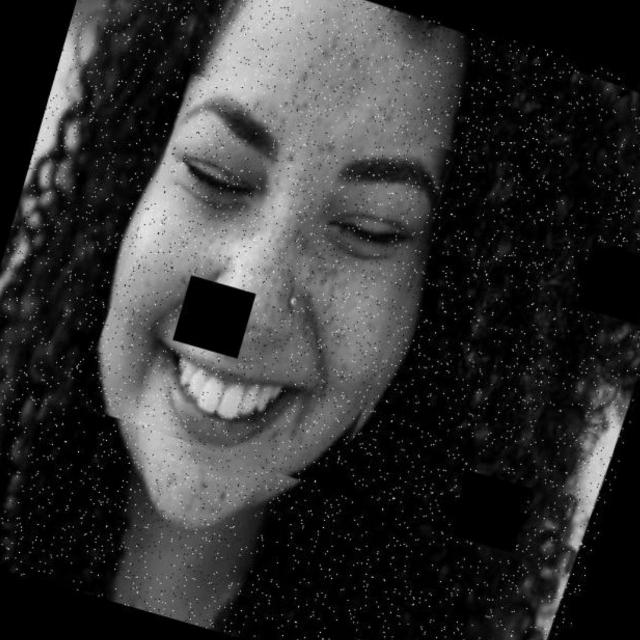Happy: (111, 5, 498, 529)
